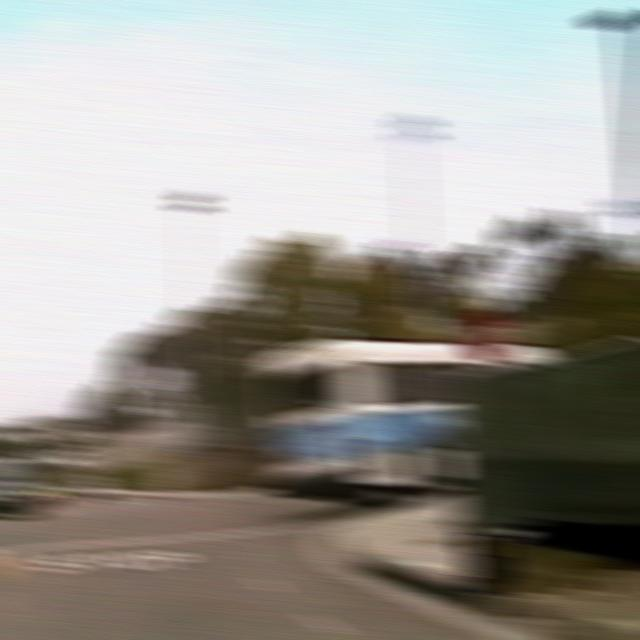stop: (459, 306, 515, 363)
